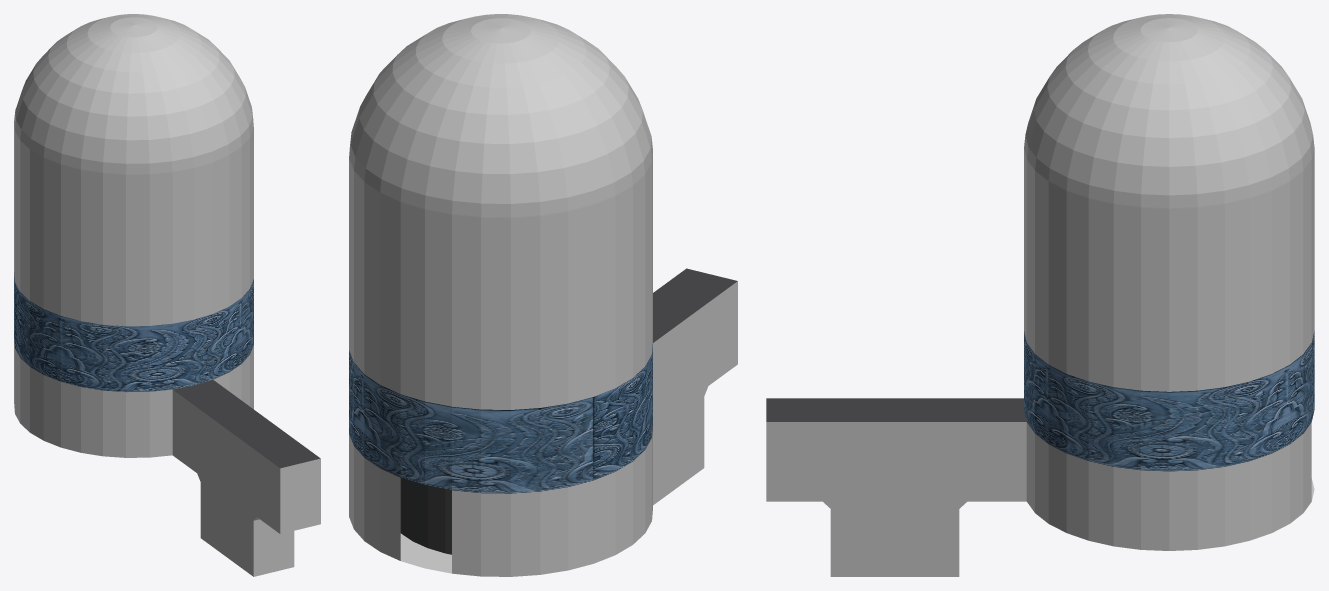
Rendered from level1_v2.fbx.
The picture shows the model from 3 angles, left to right: view 1: azimuth 30°, elevation 25°; view 2: azimuth 150°, elevation 25°; view 3: azimuth 270°, elevation 25°; orthographic projection. The views are drawn at different scales.
Visible parts, largest first — view 1: Walls, Ceiling; view 2: Walls, Ceiling, Floor; view 3: Walls, Ceiling.
Part boxes in pixels (bbox=[...]): Walls: bbox=[14, 121, 320, 576]; Ceiling: bbox=[14, 14, 320, 468]; Walls: bbox=[349, 147, 737, 576]; Ceiling: bbox=[349, 14, 737, 342]; Floor: bbox=[400, 533, 451, 573]; Walls: bbox=[766, 147, 1314, 576]; Ceiling: bbox=[766, 14, 1314, 421].
Size of the model in its own units: 5.59 by 11.41 by 10.55.
